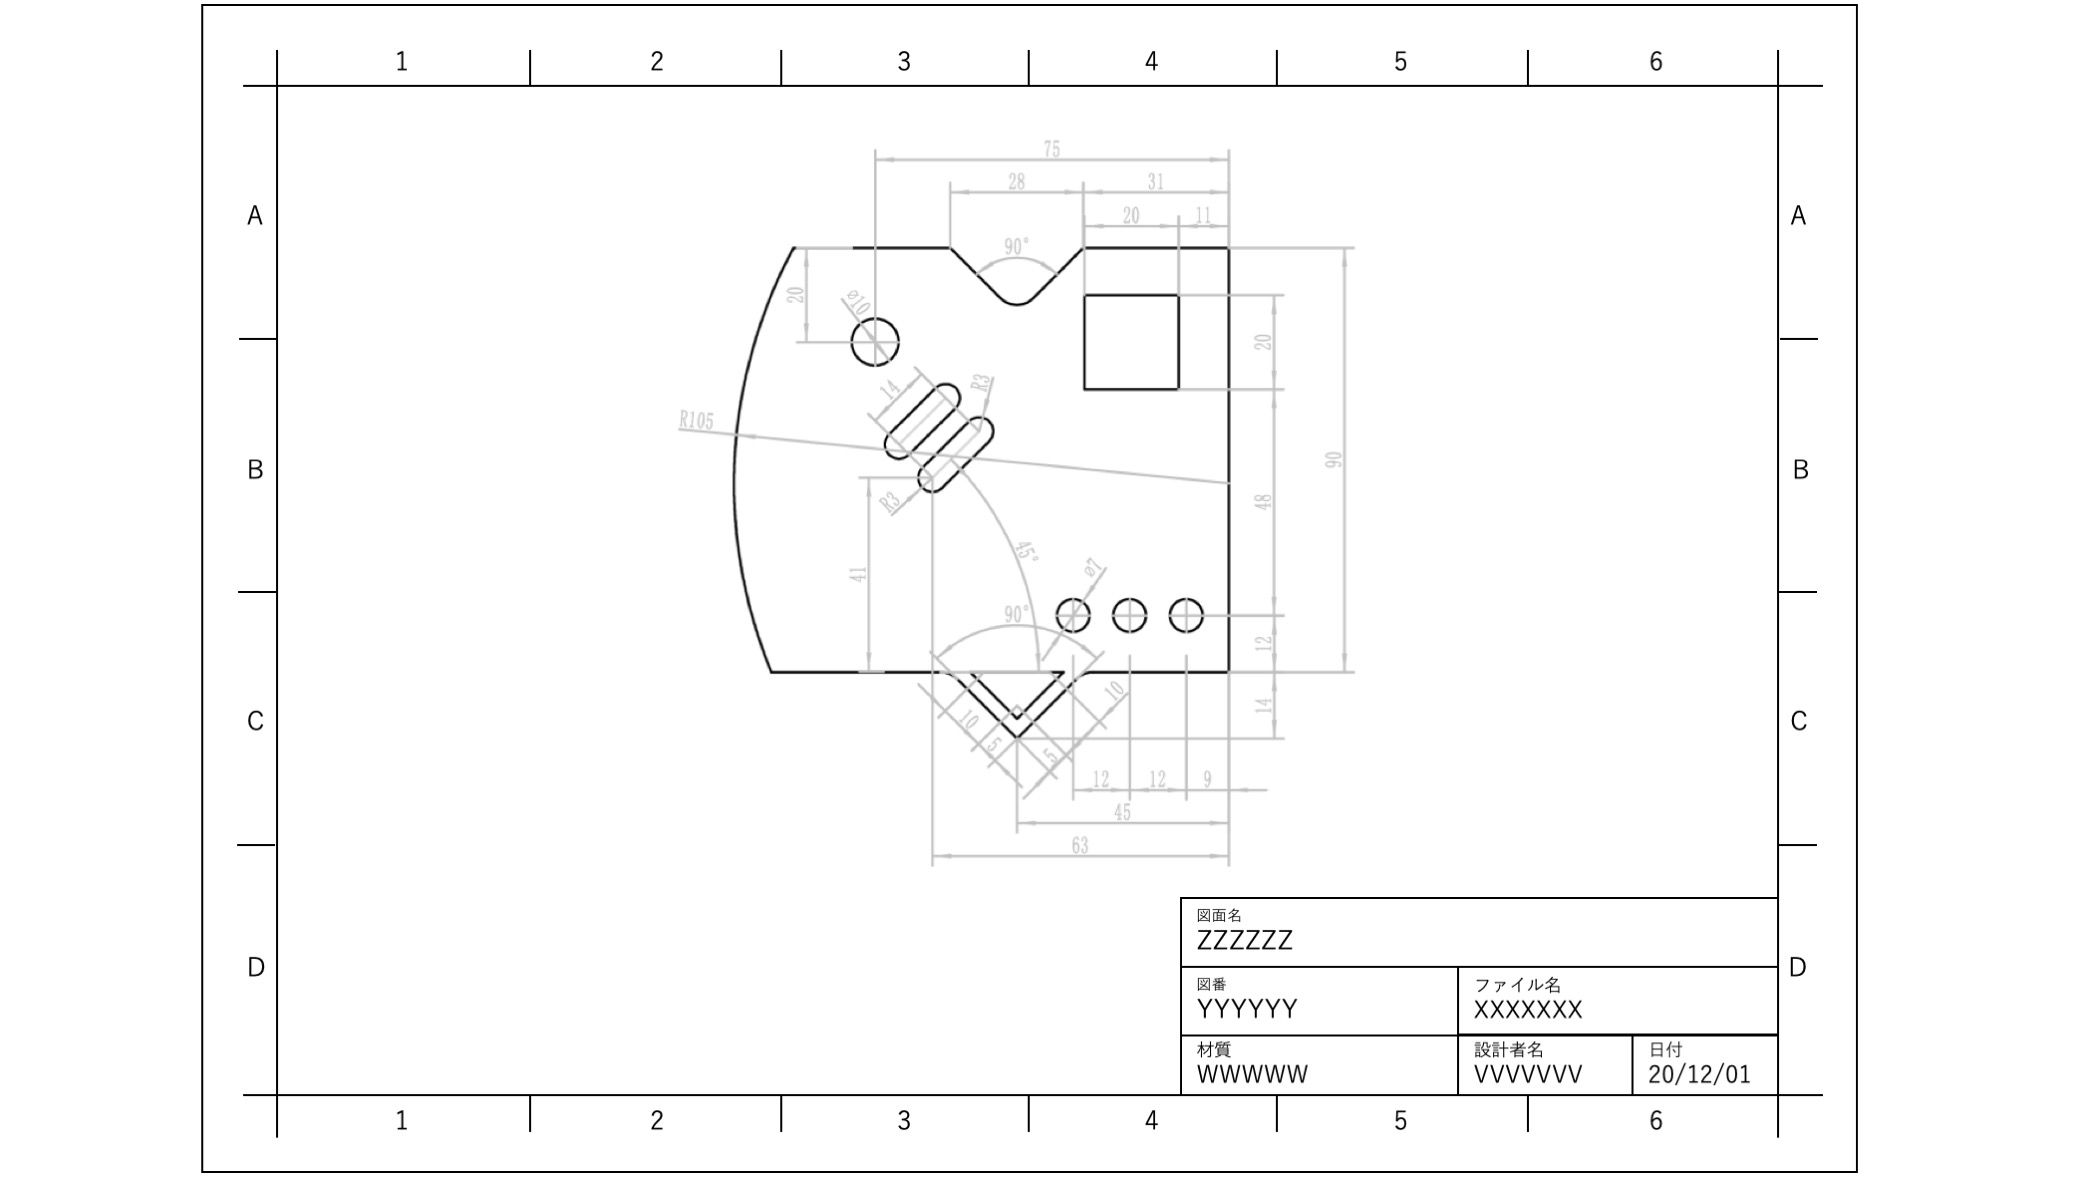circle: (848, 306, 903, 371), (1103, 590, 1154, 636), (1162, 590, 1206, 639), (1051, 590, 1098, 633)
rectangle: (1075, 287, 1190, 397)
round_rectangle: (916, 412, 997, 509), (875, 375, 966, 459)
triangle: (971, 655, 1067, 724)
